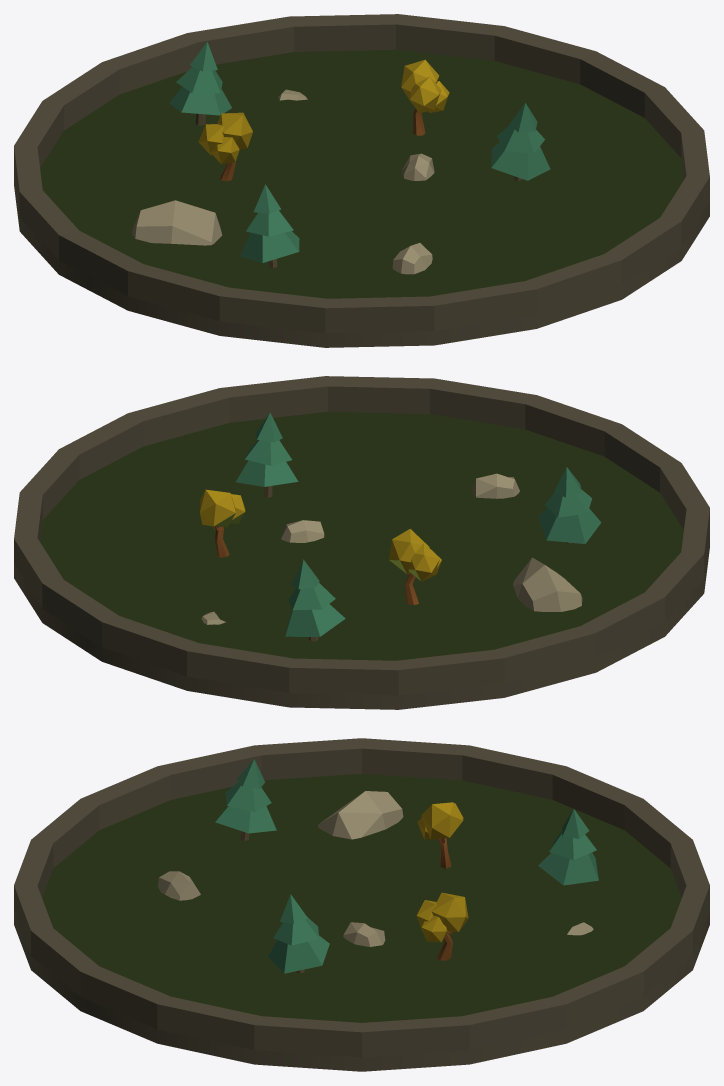
Rendered from escenario1v2.fbx.
3 renders of one model, top to bottom at view 1: azimuth 30°, elevation 25°; view 2: azimuth 150°, elevation 25°; view 3: azimuth 270°, elevation 25°, orthographic.
Visible parts, largest first — view 1: pCylinder3; view 2: pCylinder3; view 3: pCylinder3.
Part boxes in pixels (x1,y1,x2,y2): pCylinder3: (14, 14, 709, 347); pCylinder3: (14, 376, 709, 709); pCylinder3: (14, 738, 709, 1071).
Size of the model in its own units: 2911 by 458 by 2911.
